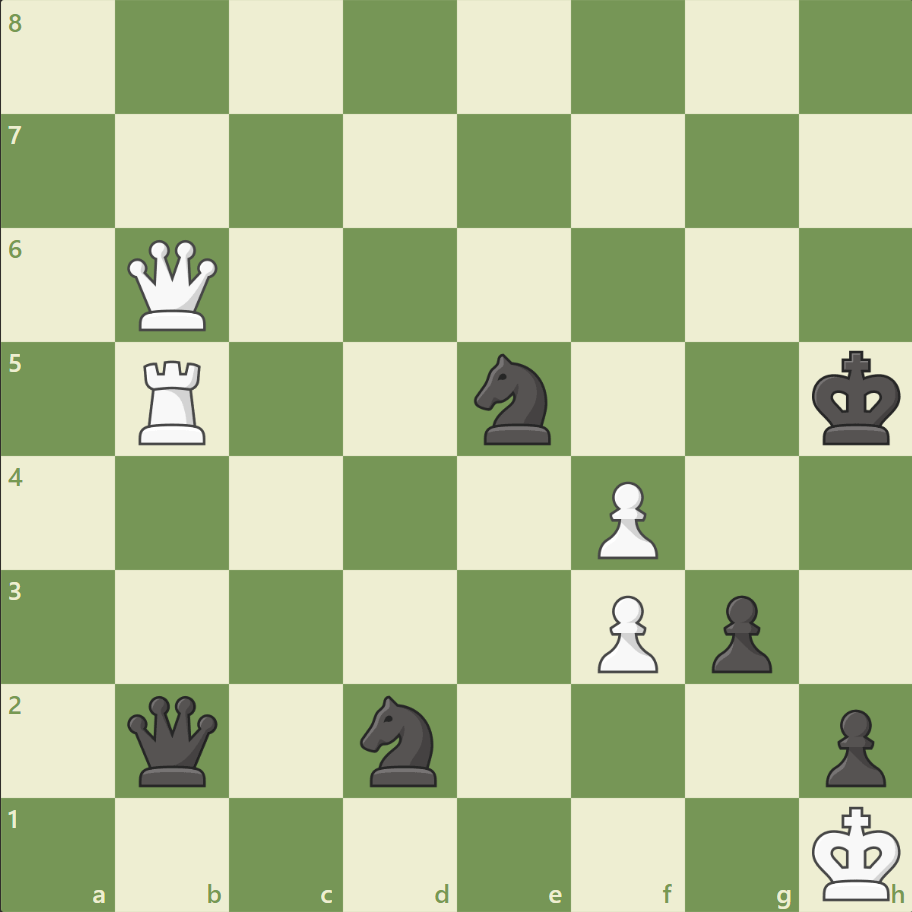K: (806, 798, 906, 906)
P: (588, 473, 662, 564), (588, 586, 662, 677)
Q: (124, 236, 223, 335)
R: (133, 352, 215, 449)
k: (806, 344, 906, 452)
n: (351, 688, 449, 791), (465, 348, 562, 450)
p: (701, 586, 776, 677), (815, 700, 889, 791)
q: (124, 690, 223, 789)
